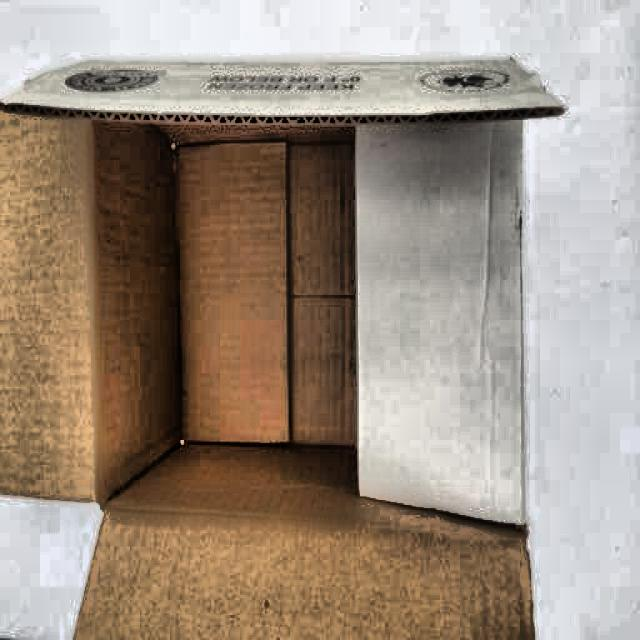cardboard: (4, 60, 552, 640)
